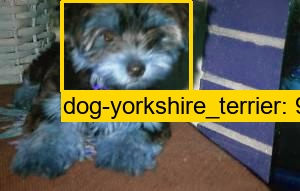dog-yorkshire_terrier: (54, 1, 195, 94)
